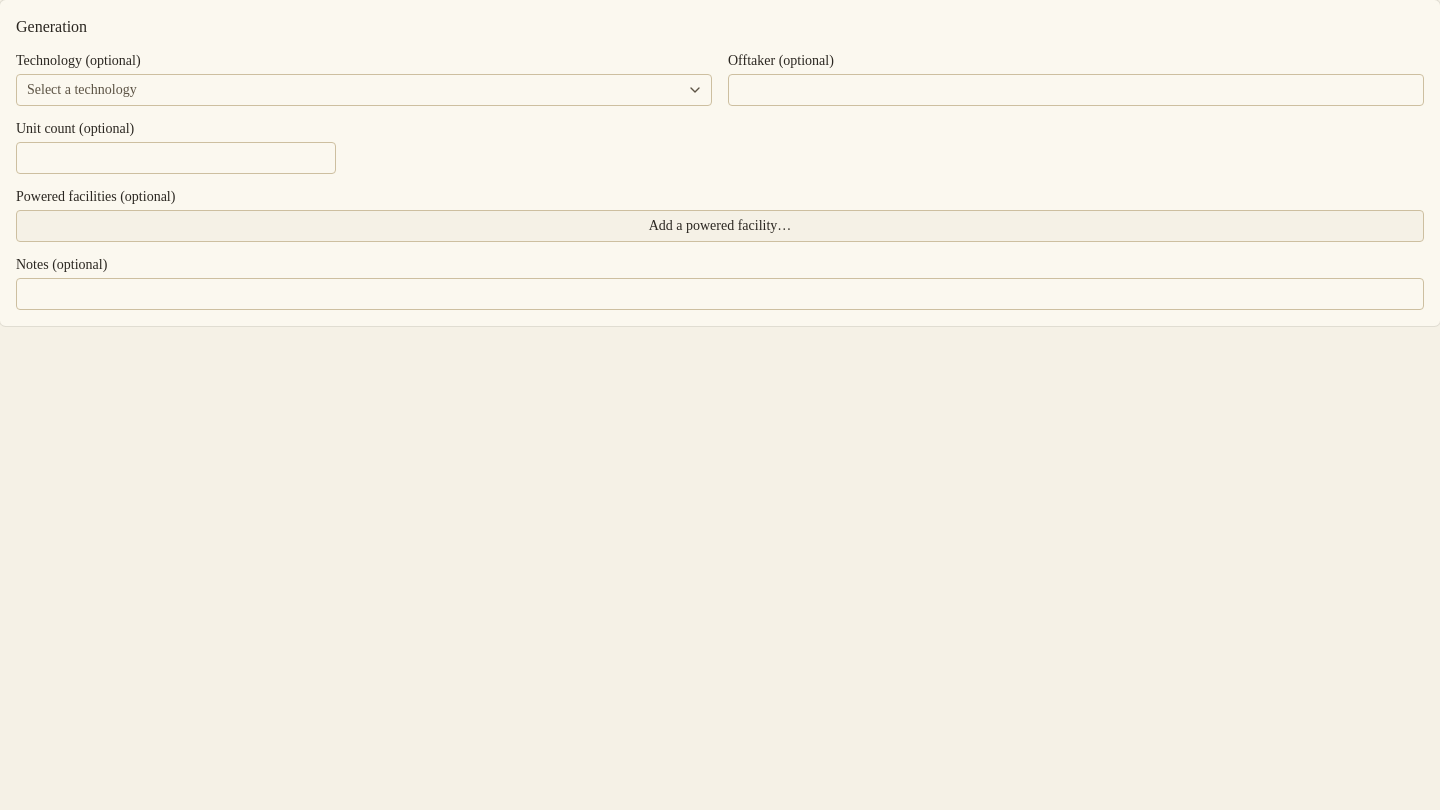
Scenario: FacilityTypeConditionalFields — power_generation branch › excludes the currently-edited facility from the poweredFacilityIds combobox options
Click the button named "powered facilities": point(720, 226) [16,210,1424,242]
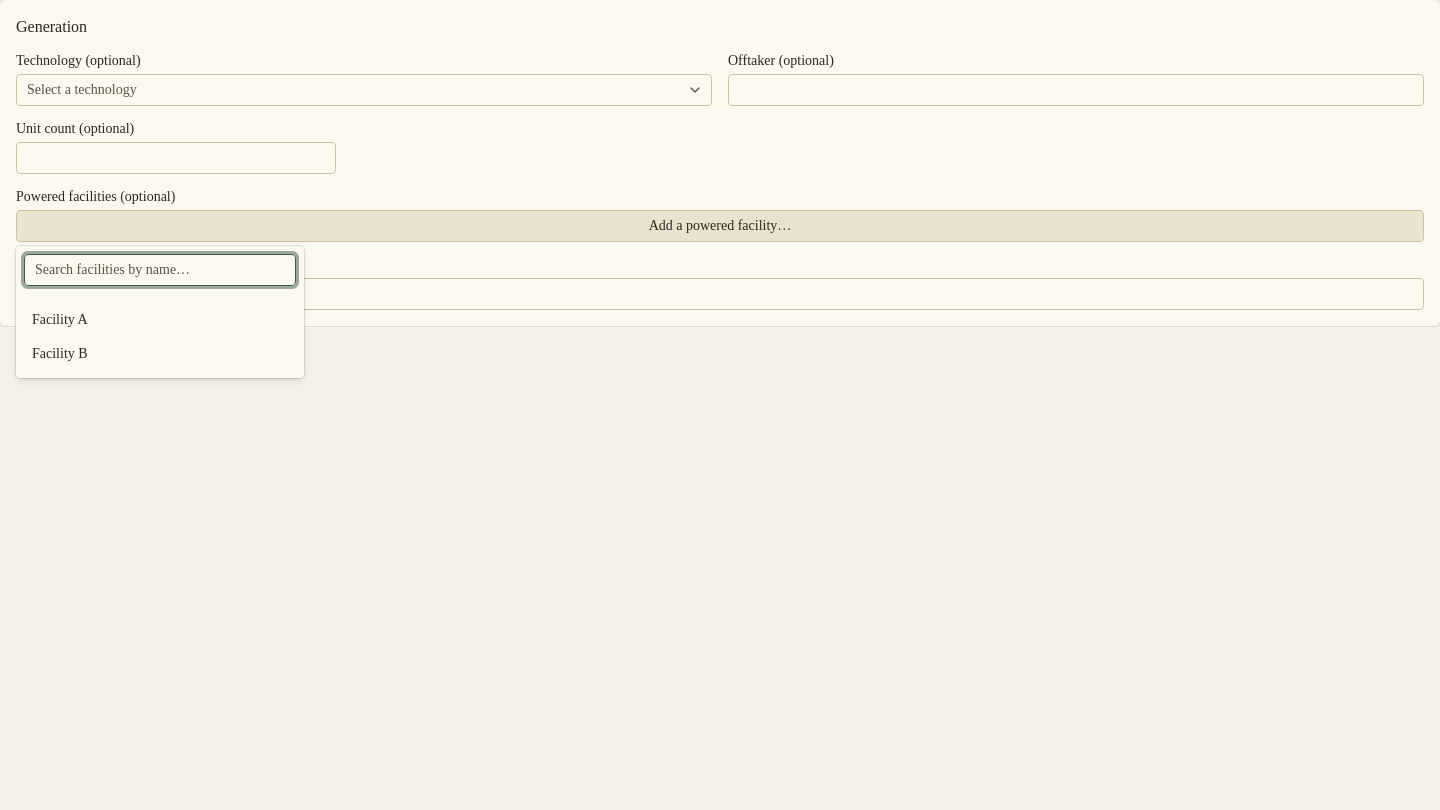
Expected: the option "Facility A" is shown, [24,304,296,336]
